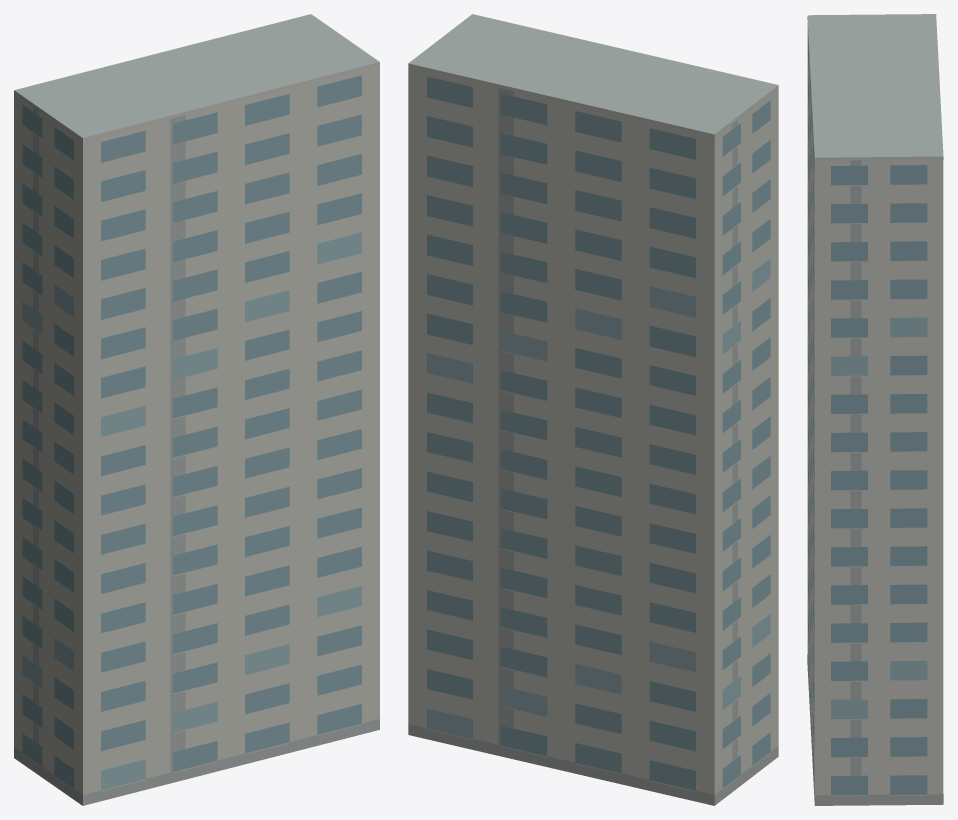
Rendered from residential-2f217e86-5760-413e-84c0-81a2efec6537.glb.
3 views of the same model, side by side, from view 1: azimuth 30°, elevation 25°; view 2: azimuth 150°, elevation 25°; view 3: azimuth 270°, elevation 25° (orthographic). The views are drawn at different scales.
Parts seen in each view (by area): view 1: residential-2f217e86-5760-413e-84c0-81a2efec6537.tmp; view 2: residential-2f217e86-5760-413e-84c0-81a2efec6537.tmp; view 3: residential-2f217e86-5760-413e-84c0-81a2efec6537.tmp.
Boxes of the visible parts, <box> form: residential-2f217e86-5760-413e-84c0-81a2efec6537.tmp: <box>14,14,379,805</box>; residential-2f217e86-5760-413e-84c0-81a2efec6537.tmp: <box>408,14,778,805</box>; residential-2f217e86-5760-413e-84c0-81a2efec6537.tmp: <box>807,14,943,805</box>.
Size of the model in its own units: 23.78 by 50 by 9.52.
